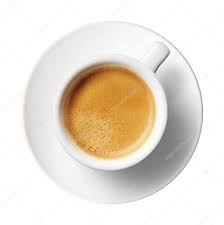cup: (51, 40, 188, 181)
